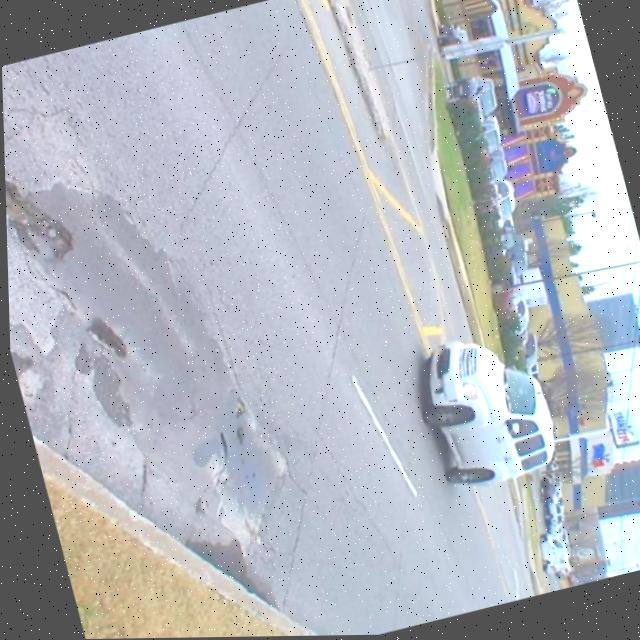Pothole: (2, 97, 101, 281), (63, 299, 142, 366), (184, 425, 245, 488), (212, 383, 267, 431), (236, 426, 254, 452)
